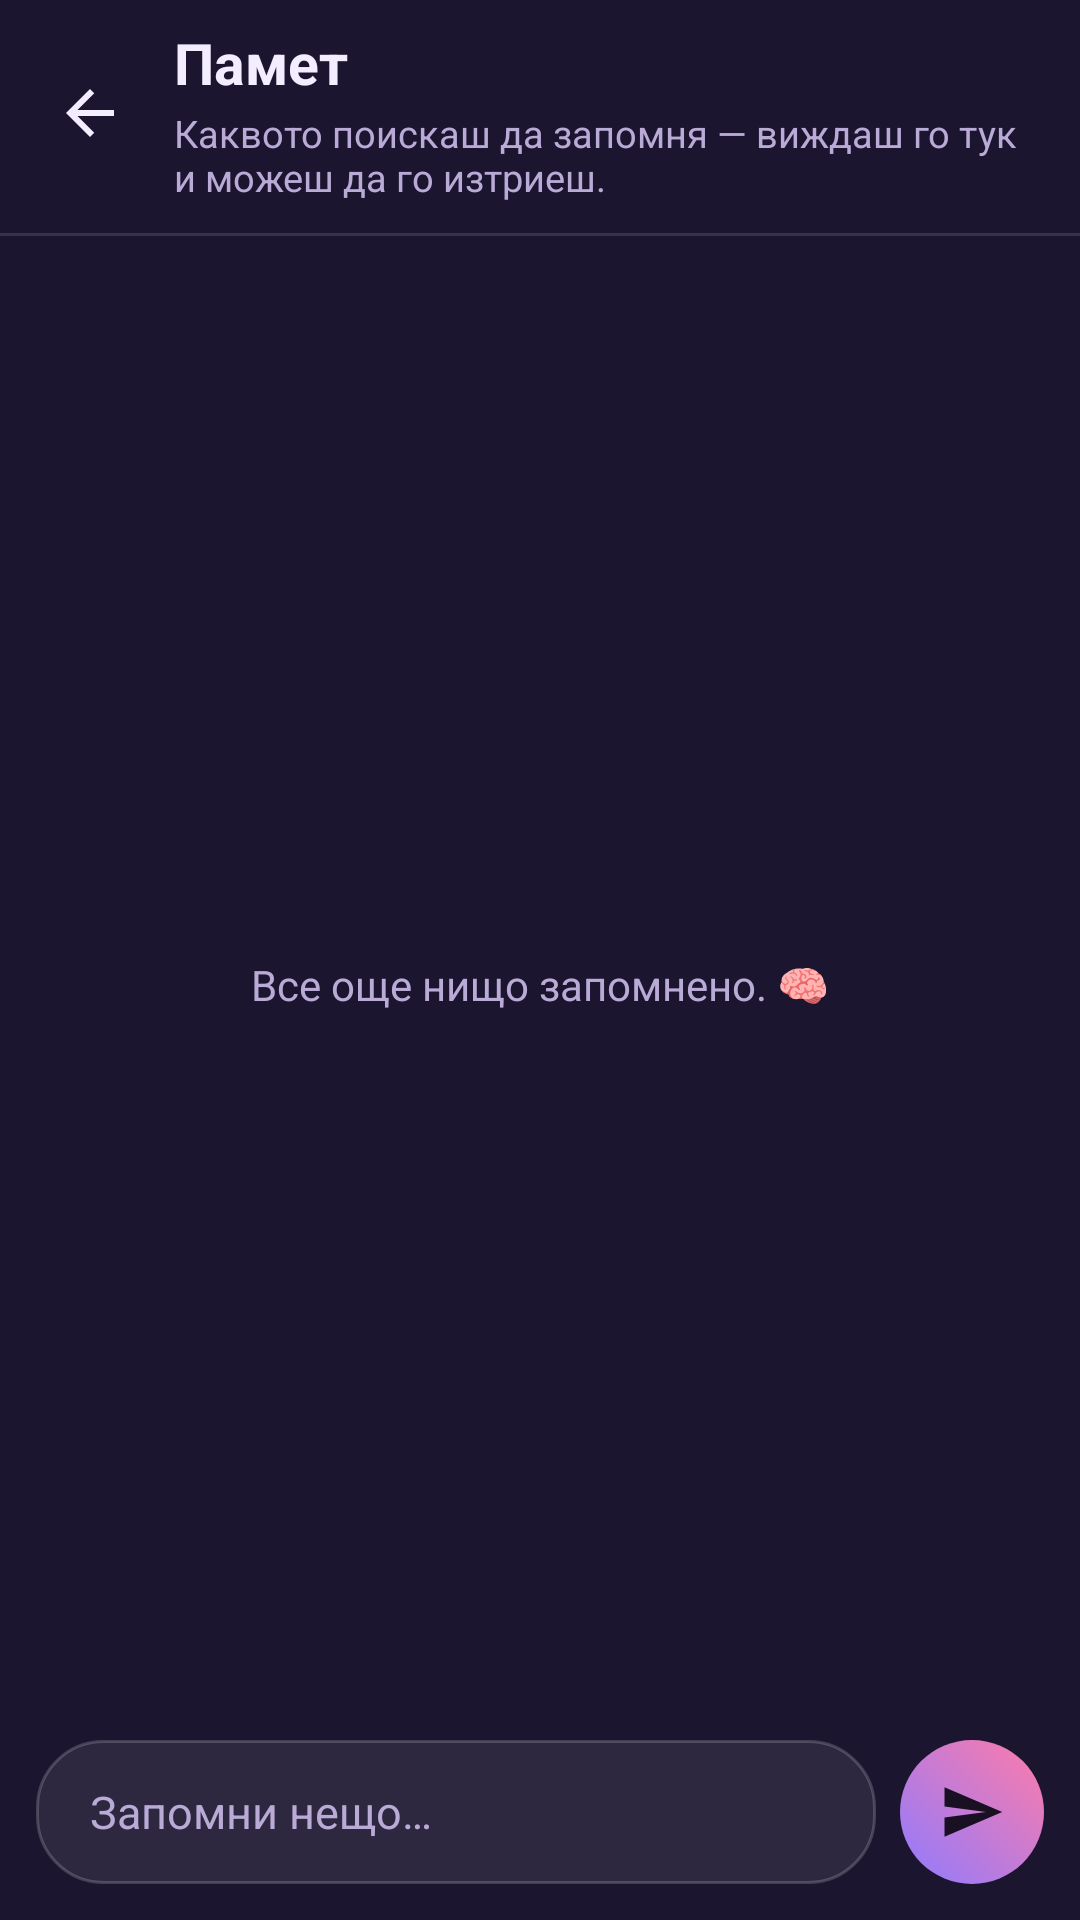

Where to tap for icons on this 1080*1920 app screen, as (x=x, y=y):
Назад: (x=90, y=113)
